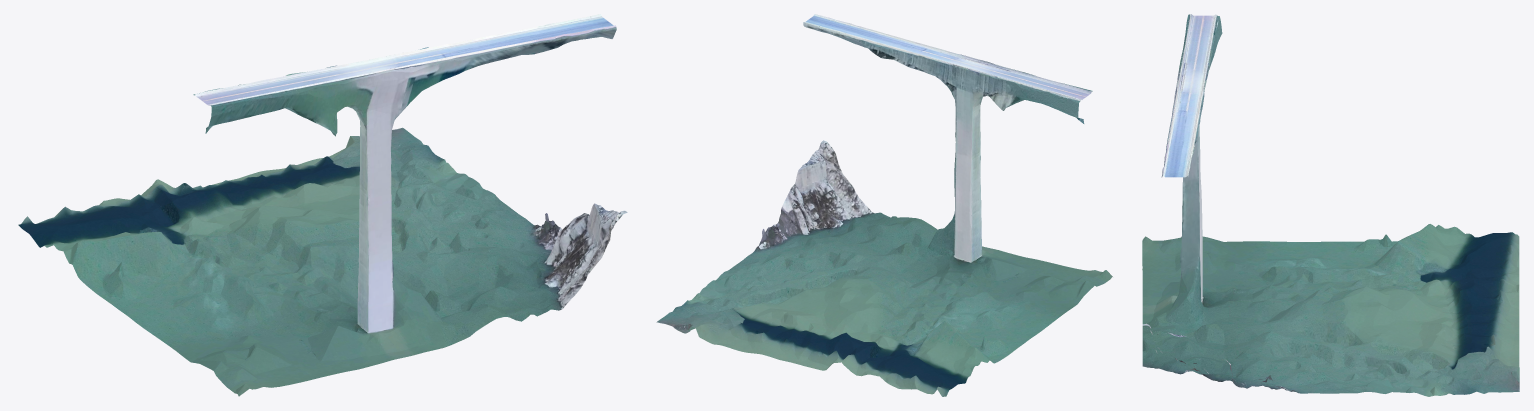
File: Tile_+008_+007.glb
The picture shows the model from 3 angles, left to right: view 1: azimuth 30°, elevation 25°; view 2: azimuth 150°, elevation 25°; view 3: azimuth 270°, elevation 25°; orthographic projection. The views are drawn at different scales.
Visible parts, largest first — view 1: rtc; view 2: rtc; view 3: rtc.
Boxes of the visible parts, <box> form: rtc: <box>18,14,627,396</box>; rtc: <box>656,14,1112,396</box>; rtc: <box>1142,14,1519,396</box>.
Size of the model in its own units: 191 by 129 by 191.
6 materials, 6 textured.
